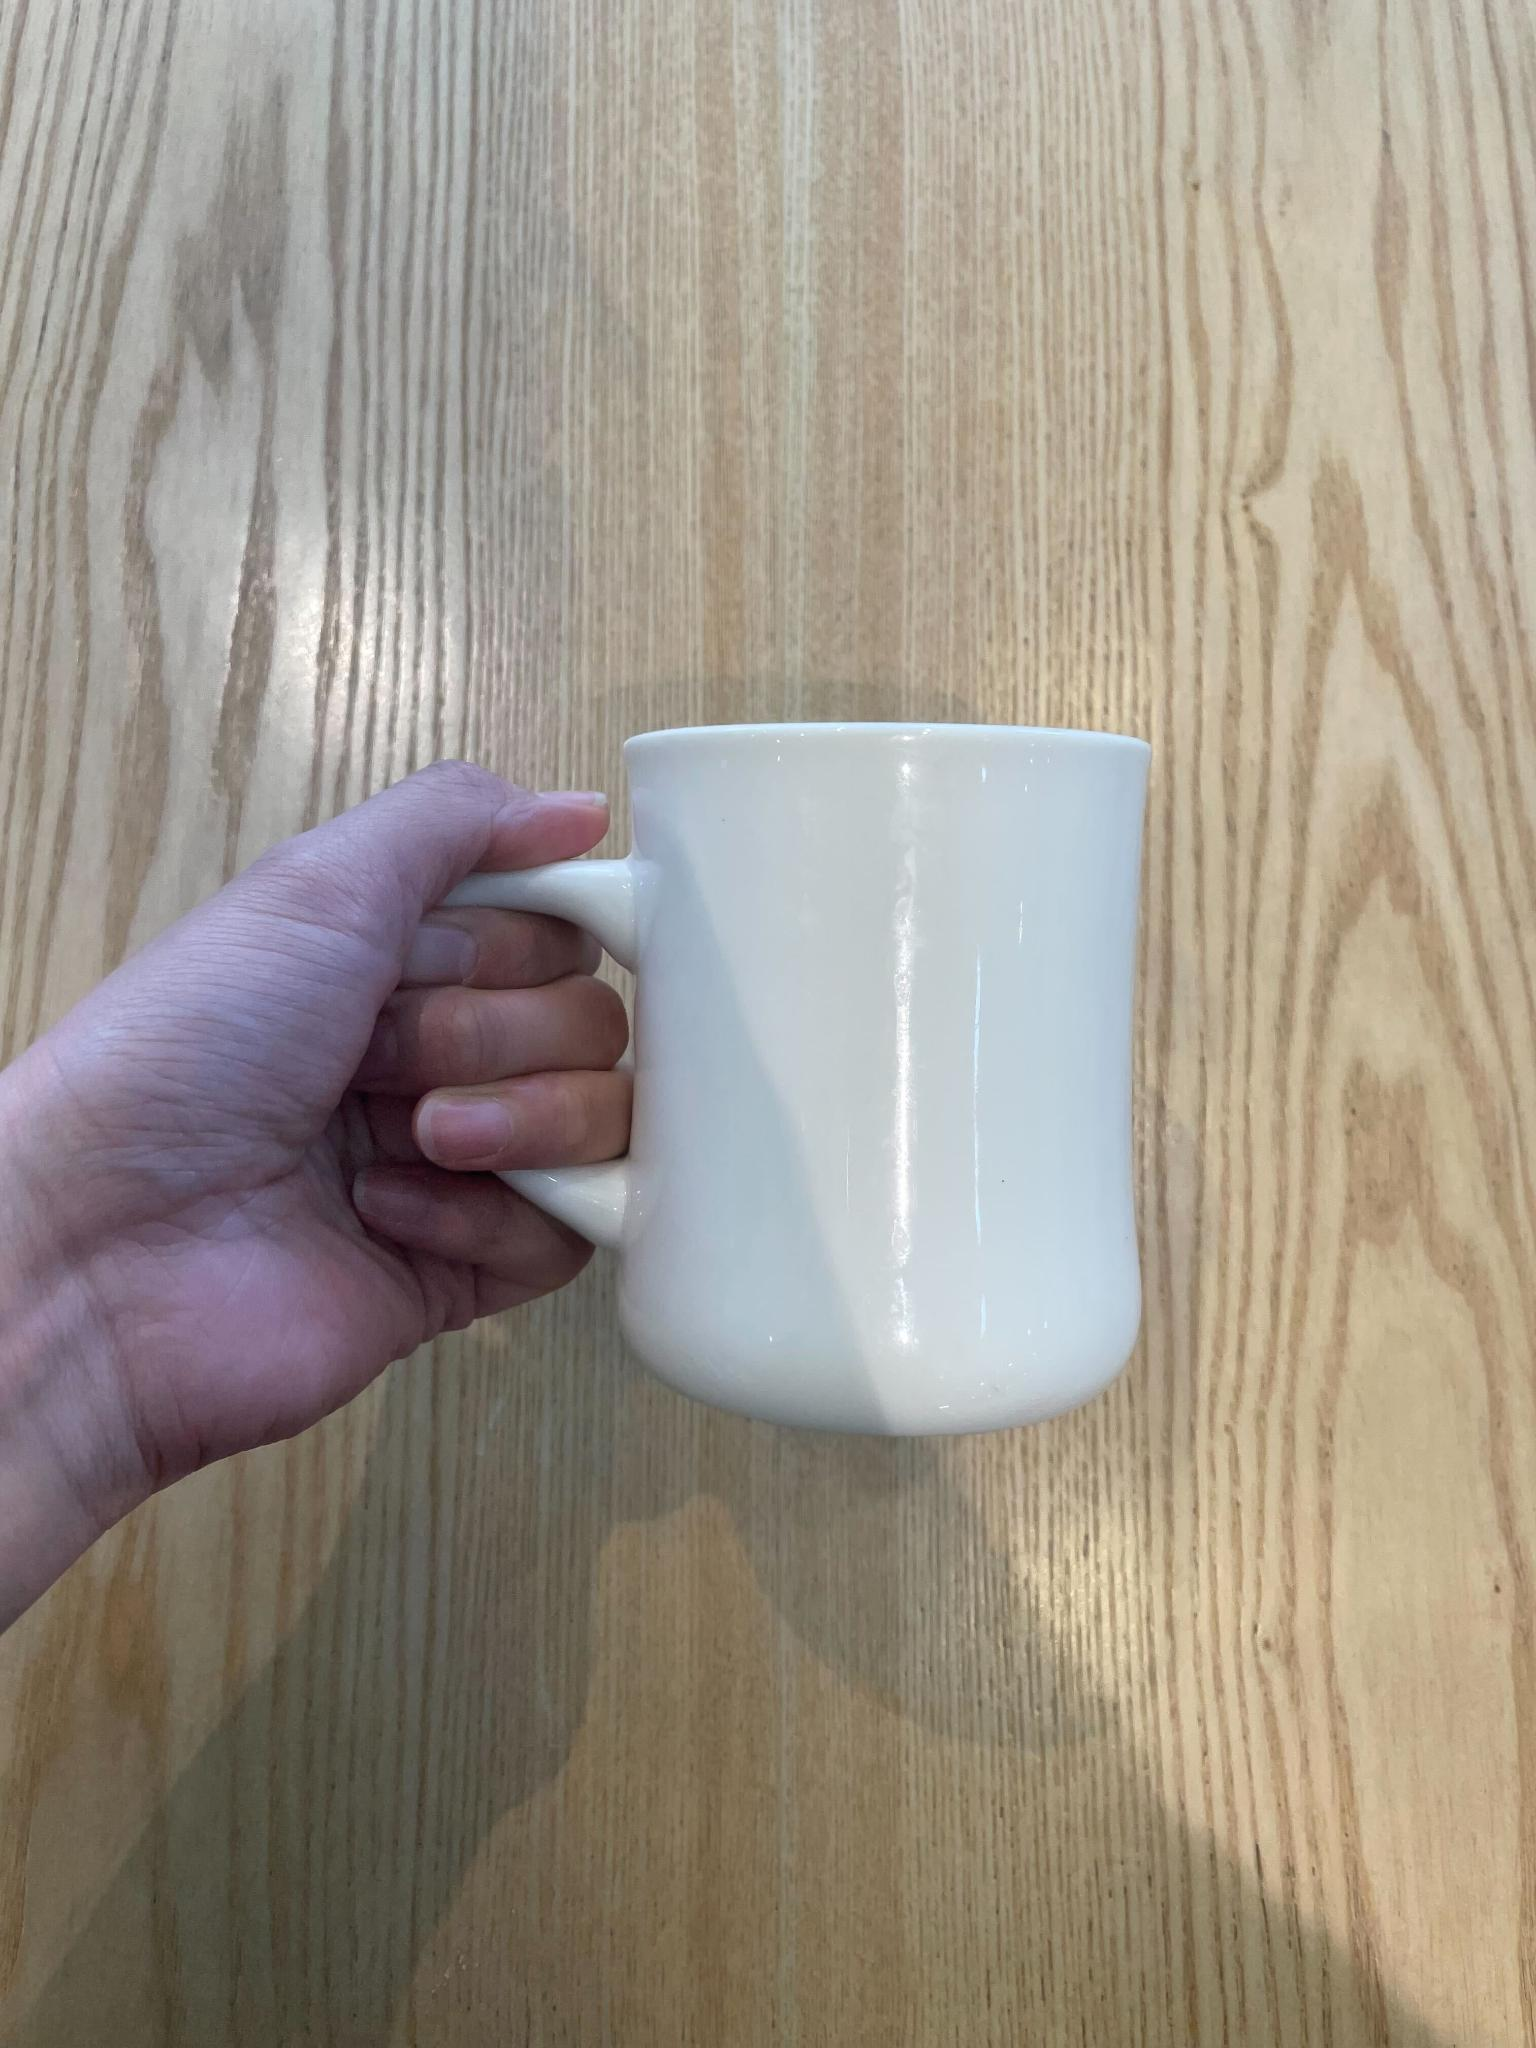cup: (8, 689, 1184, 1687)
